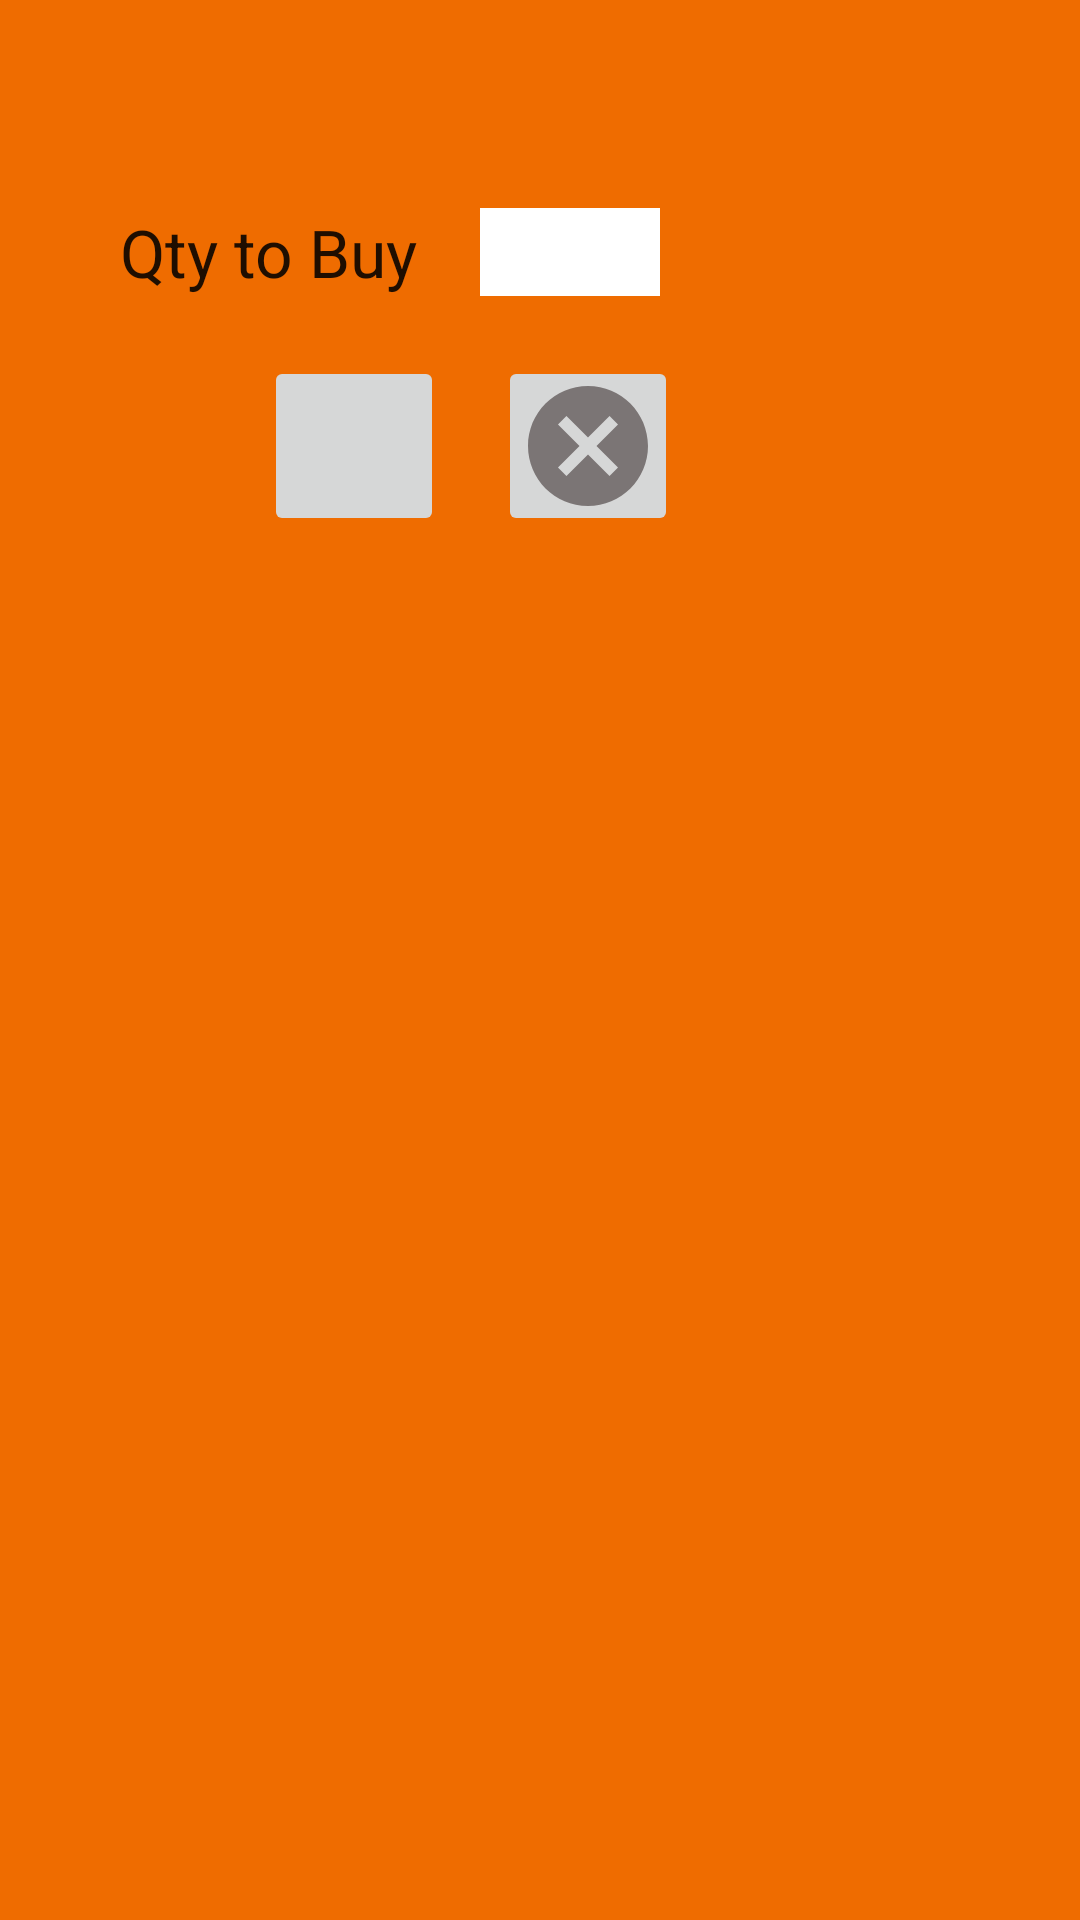

Point at icon controls on the screen. Image size 1080 x 1920, points as (x=x, y=y).
cancel: (x=588, y=446)
